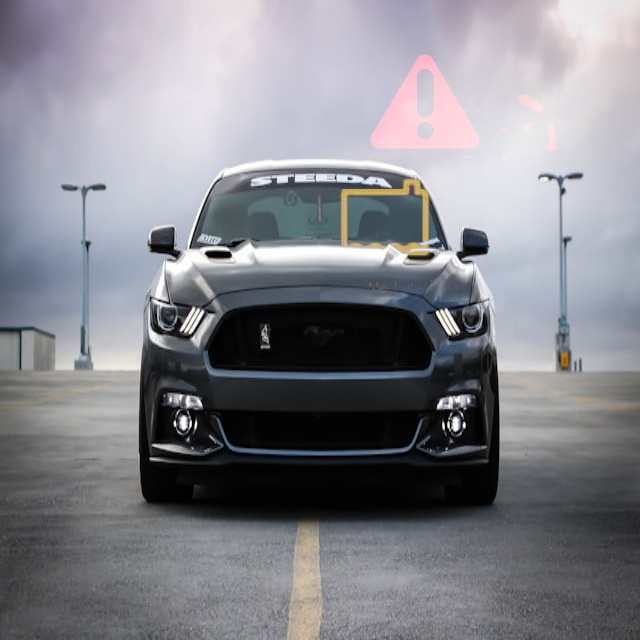symbol: (399, 24, 619, 244), (338, 16, 511, 189), (304, 137, 466, 299)
